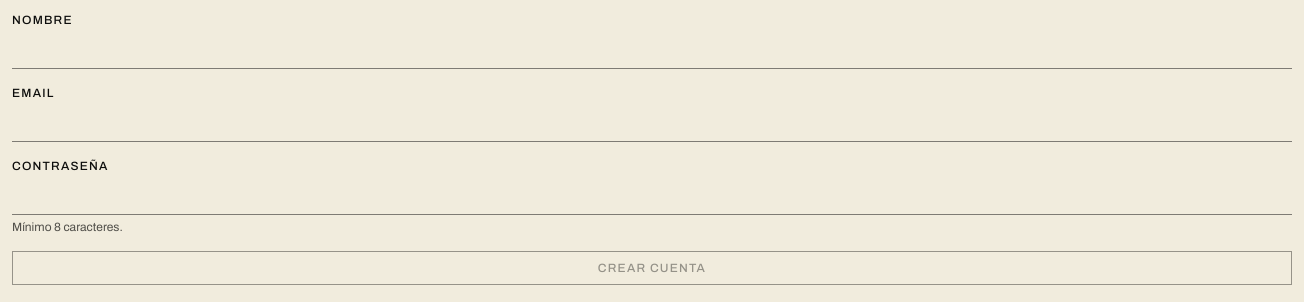
Test: RegisterForm › deja el formulario deshabilitado tras crear la cuenta, a la espera de que la sesion se confirme
Type "Ana" into the field labelled "Nombre".
click(652, 50); type("Ana")  # box [12,32,1292,69]
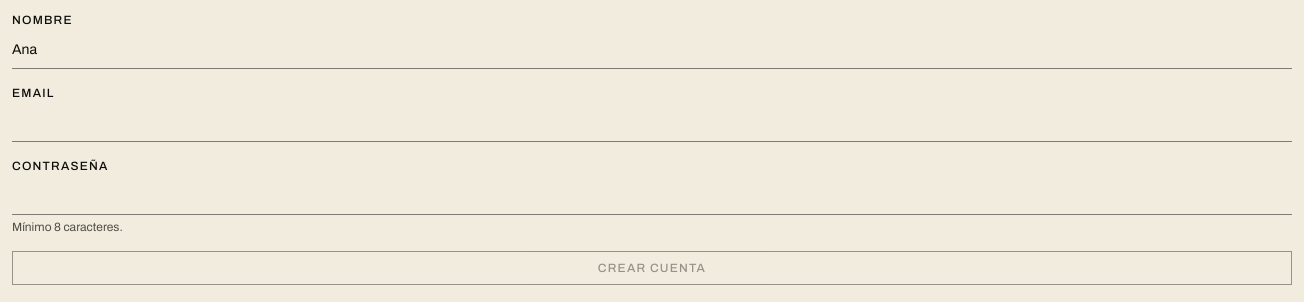
Type "ana@clack.com" into the field labelled "Email".
click(652, 124); type("ana@clack.com")  # box [12,105,1292,142]
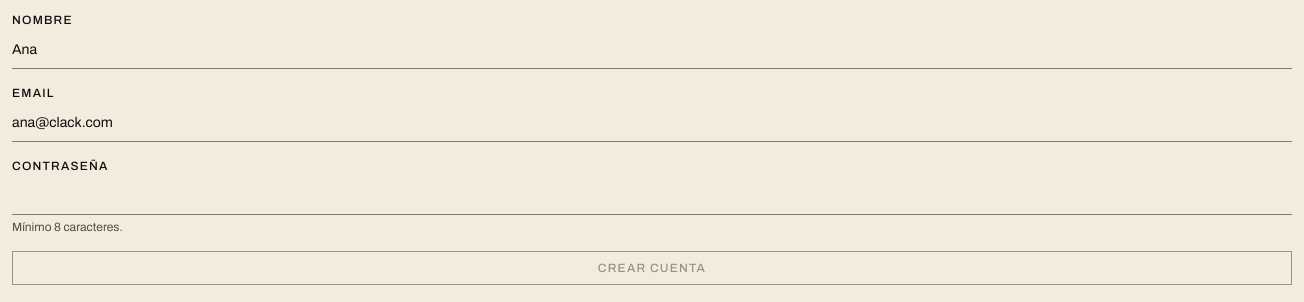
Type "12345678" into the password field labelled "Contraseña".
click(652, 196); type("12345678")  # box [12,178,1292,215]
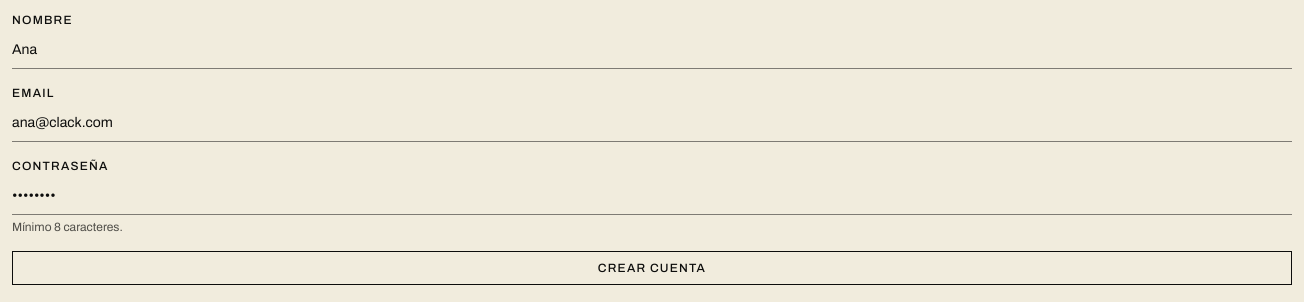
Click the button "Crear cuenta".
click(652, 268)  # box [12,251,1292,285]
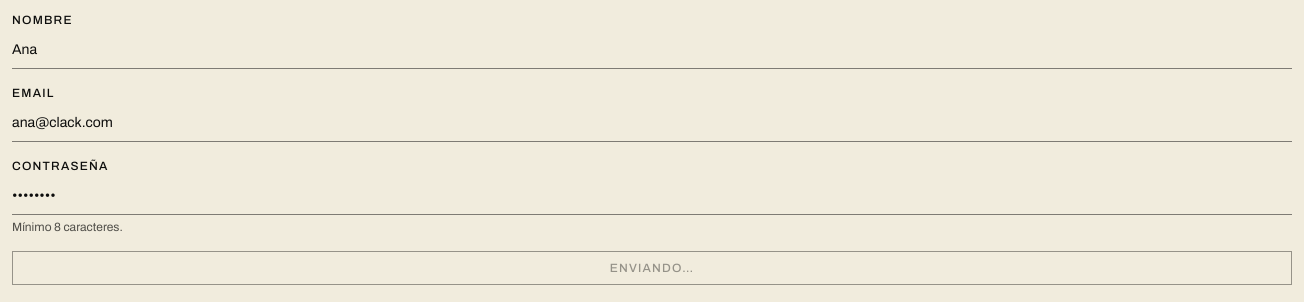
Expected: the field labelled "Nombre" is disabled, [12,32,1292,69]
Expected: the button named "Crear cuenta" is disabled, [12,251,1292,285]
